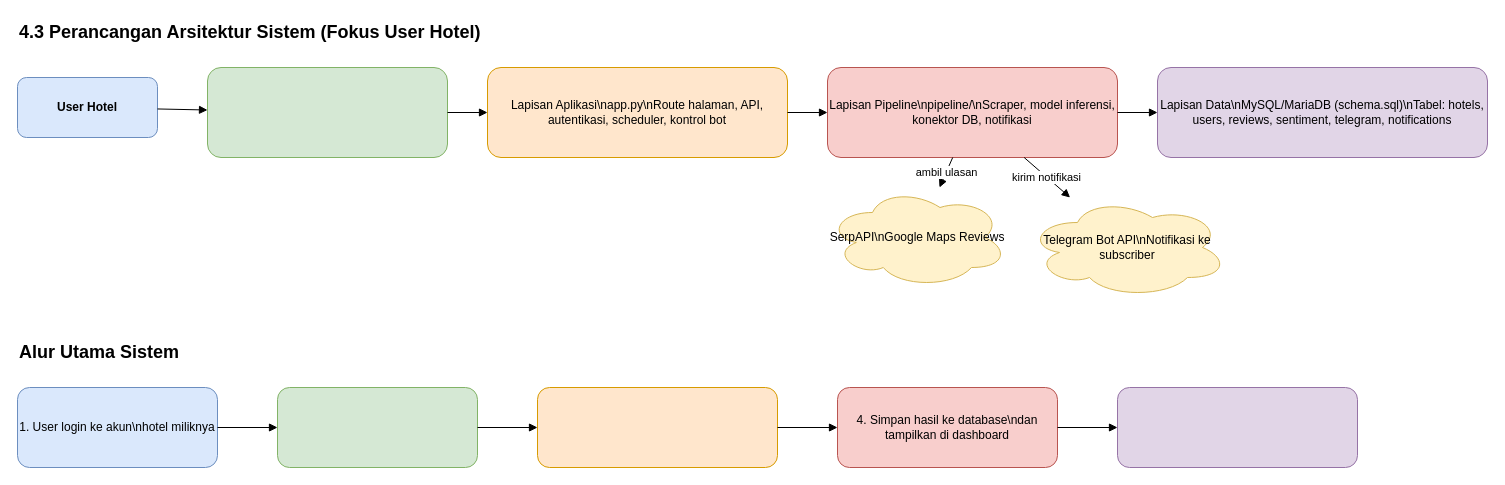
Some shapes in this 1505 by 485 pixel diagram are drawn without their labels. Each missing label, with the centre of its shape:
"2. Trigger scraping\nmanual / otomatis" belongs at point 377,427.
"3. Proses review baru:\nnormalisasi waktu, deduplikasi,\nklasifikasi sentimen" belongs at point 657,427.
"5. Kirim notifikasi Telegram\nke subscriber hotel terkait" belongs at point 1237,427.
"Lapisan Presentasi\ntemplates/ & static/\nDashboard, Reviews, Analytics" belongs at point 327,112.
